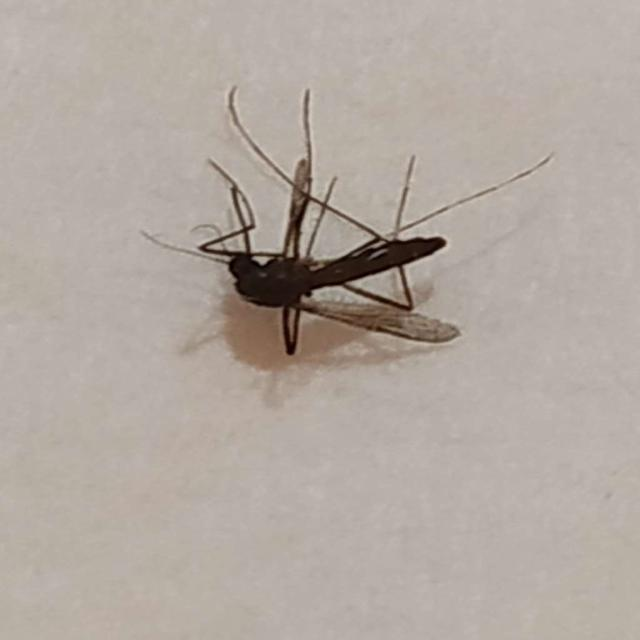albopictus: (120, 70, 544, 367)
